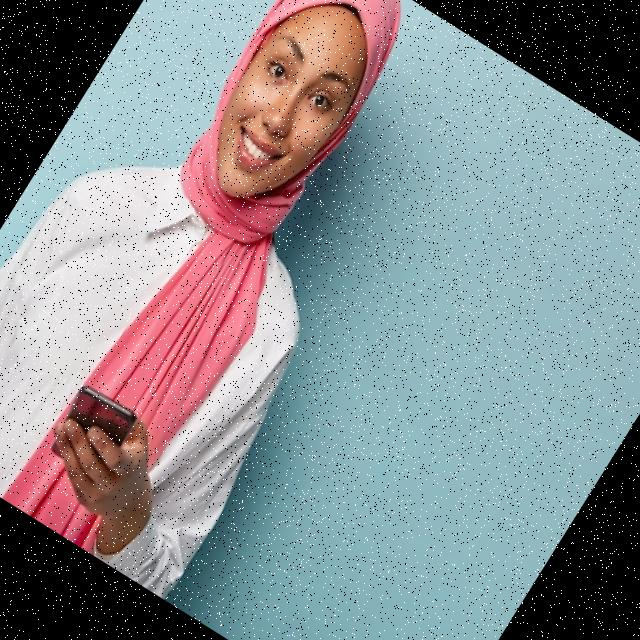Person: (0, 0, 506, 602)
